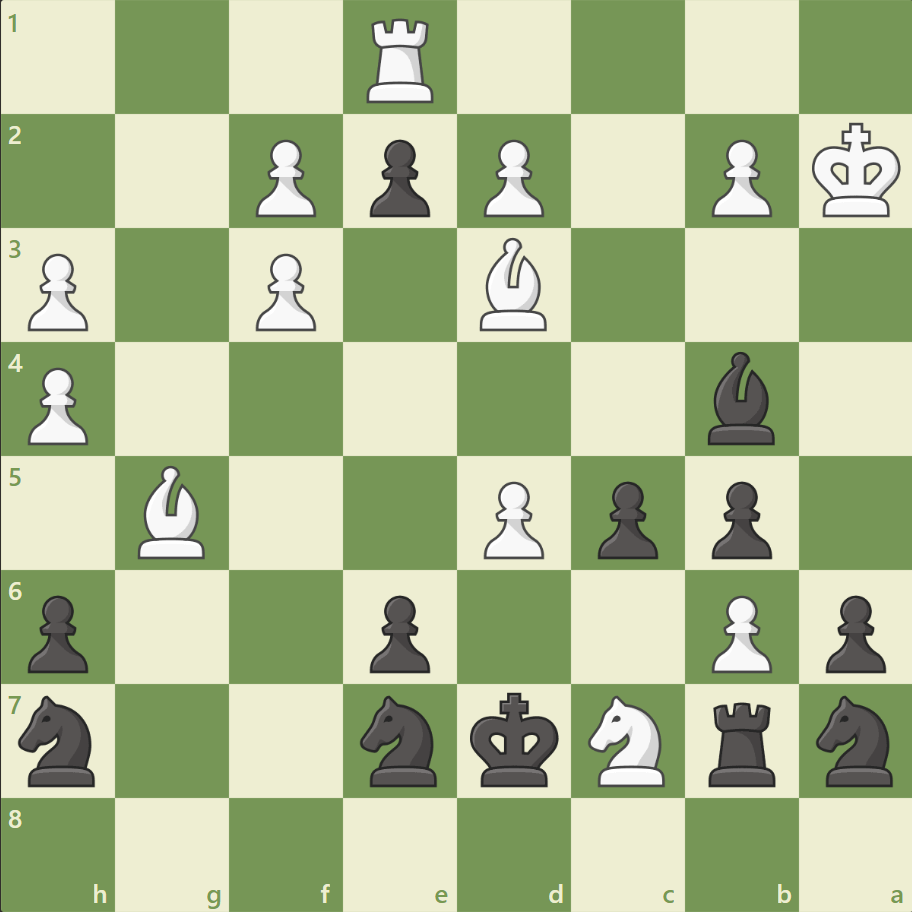B: (131, 460, 215, 563), (471, 233, 555, 336)
K: (806, 117, 906, 225)
N: (579, 688, 676, 791)
P: (701, 586, 776, 677), (474, 473, 549, 564), (20, 359, 95, 450), (247, 246, 322, 337), (20, 246, 95, 337), (701, 132, 776, 223), (474, 132, 549, 223), (247, 132, 322, 223)
R: (360, 12, 442, 109)
b: (698, 347, 782, 449)
k: (465, 685, 565, 793)
n: (351, 688, 449, 791), (806, 688, 903, 791), (11, 688, 108, 791)
p: (20, 586, 95, 677), (701, 473, 776, 564), (815, 586, 889, 677), (361, 586, 435, 677), (588, 473, 662, 564), (361, 132, 435, 223)
r: (700, 693, 783, 790)
